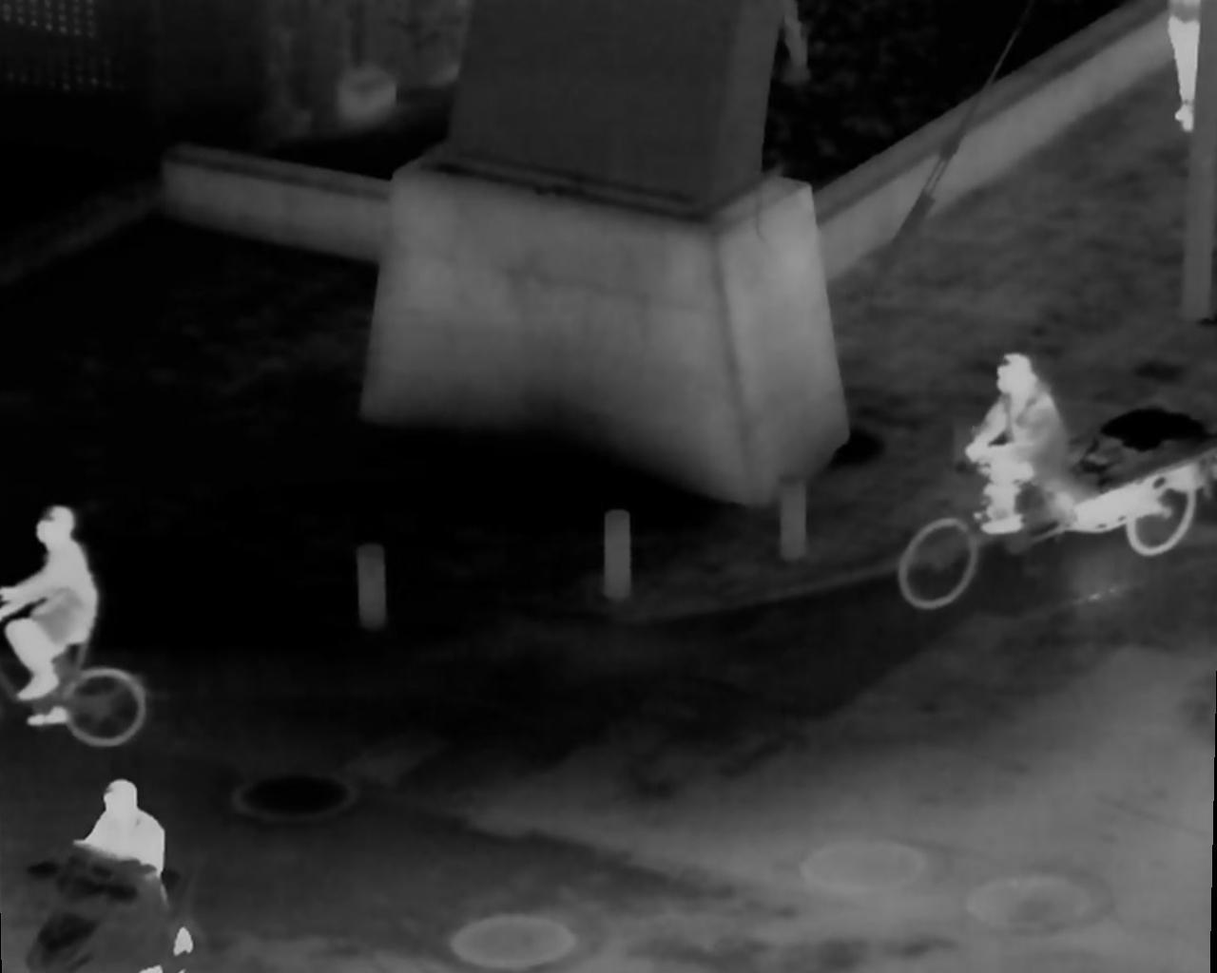person: (4, 515, 105, 735), (70, 776, 177, 948), (968, 353, 1061, 544)
